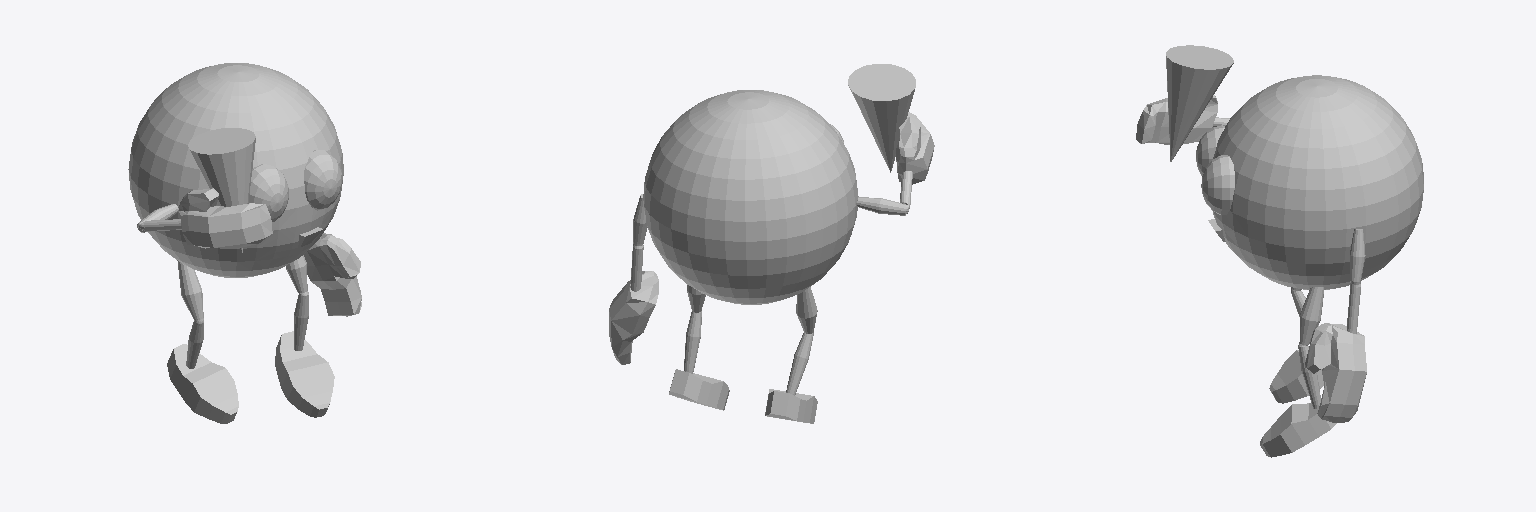
File: stepLeft_000040.obj
3 renders of one model, left to right at view 1: azimuth 30°, elevation 25°; view 2: azimuth 150°, elevation 25°; view 3: azimuth 270°, elevation 25°, orthographic.
Visible parts, largest first — view 1: Rusko_Sphere; view 2: Rusko_Sphere; view 3: Rusko_Sphere.
Boxes of the visible parts, x1,y1,x2,y2 form: Rusko_Sphere: [128, 63, 361, 423]; Rusko_Sphere: [609, 64, 934, 423]; Rusko_Sphere: [1136, 45, 1423, 457].
Bounding box in the file's own units: 5.54 × 6.96 × 5.35.